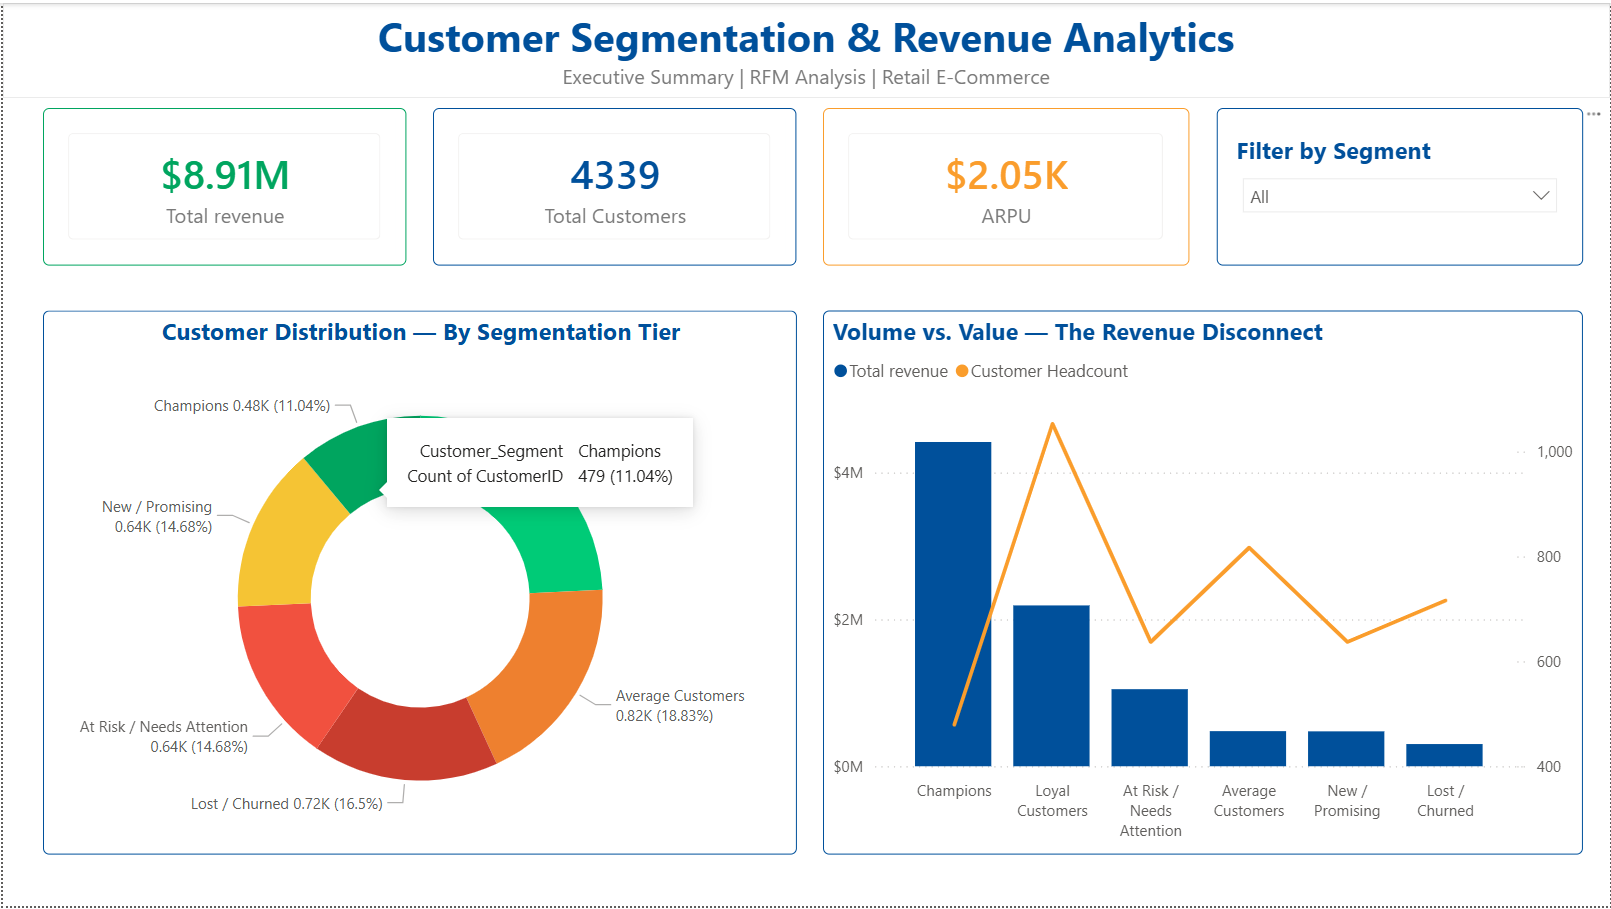

Layout of this report page (visuals, bound fields, positions):
{"tool":"powerbi","page":{"name":"Page 1","canvas":[1280,720],"ordinal":0},"visuals":[{"type":"donutChart","title":"Customer Distribution — By Segmentation Tier","fields":{"Category":["customer_rfm_segments.Customer_Segment"],"Y":["CountNonNull(customer_rfm_segments.CustomerID)"]},"box":[31.4,245.3,601.2,433.7],"z":0},{"type":"lineStackedColumnComboChart","title":"Volume vs. Value — The Revenue Disconnect","fields":{"Category":["customer_rfm_segments.Customer_Segment"],"Y":["customer_rfm_segments.Total revenue"],"Y2":["Count(customer_rfm_segments.CustomerID)"]},"box":[653.5,245.3,605.8,433.7],"z":1000},{"type":"textbox","box":[0,0,1280.3,75.5],"z":2000},{"type":"cardVisual","fields":{"Data":["customer_rfm_segments.Total revenue"]},"box":[31.4,83.7,289.5,125.6],"z":3000},{"type":"cardVisual","fields":{"Data":["customer_rfm_segments.Total Customers"]},"box":[342.6,83.7,289.5,125.6],"z":4000},{"type":"cardVisual","fields":{"Data":["customer_rfm_segments.ARPU"]},"box":[653.9,83.7,291.9,125.6],"z":5000},{"type":"slicer","title":"Filter by Segment","fields":{"Values":["customer_rfm_segments.Customer_Segment"]},"box":[967.4,83.7,291.9,125.6],"z":6000}]}

Visuals, with their boxes in screenshot pixels (x1, y1, x2, y2), scaled from the page's 1280x720 canvas onto the 1611x909 screenshot:
"Customer Distribution — By Segmentation Tier" donutChart: 40, 310, 796, 857
"Volume vs. Value — The Revenue Disconnect" lineStackedColumnComboChart: 822, 310, 1585, 857
textbox: 0, 0, 1610, 95
cardVisual - customer_rfm_segments.Total revenue: 40, 106, 404, 264
cardVisual - customer_rfm_segments.Total Customers: 431, 106, 796, 264
cardVisual - customer_rfm_segments.ARPU: 823, 106, 1190, 264
"Filter by Segment" slicer: 1218, 106, 1585, 264
